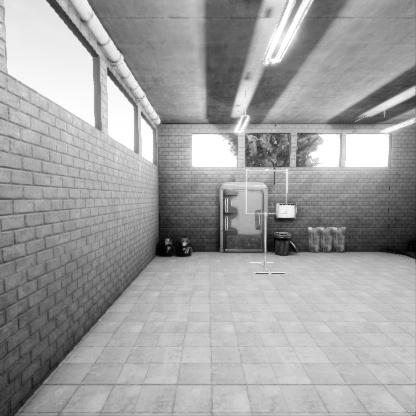gate: (245, 203, 290, 248)
